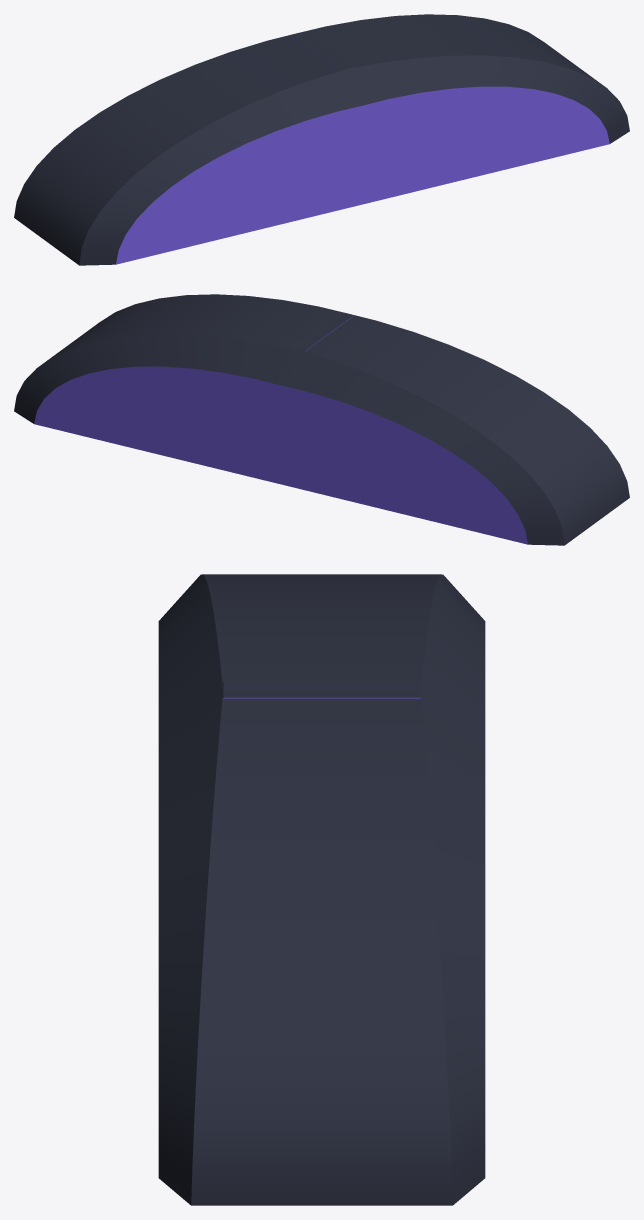
Rendered from bridge.obj.
The picture shows the model from 3 angles, top to bottom: view 1: azimuth 30°, elevation 25°; view 2: azimuth 150°, elevation 25°; view 3: azimuth 270°, elevation 25°; orthographic projection. The views are drawn at different scales.
Parts seen in each view (by area): view 1: mergedBlocks; view 2: mergedBlocks; view 3: mergedBlocks.
Boxes of the visible parts, x1,y1,x2,y2 form: mergedBlocks: [14, 14, 629, 265]; mergedBlocks: [14, 294, 629, 545]; mergedBlocks: [158, 574, 485, 1205].
Size of the model in its own units: 0.7 by 0.15 by 0.18.
